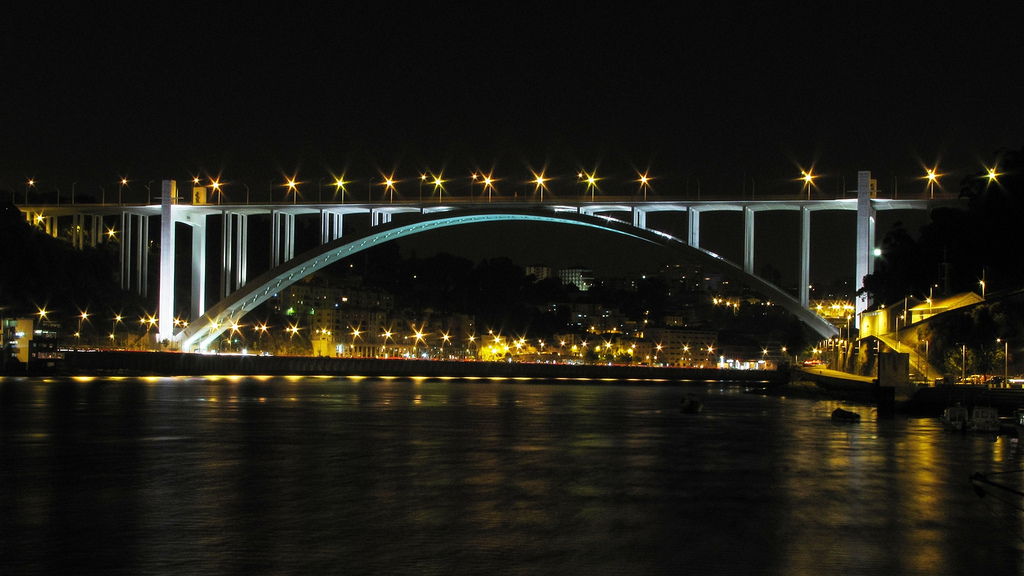arrabida: (6, 169, 961, 353)
